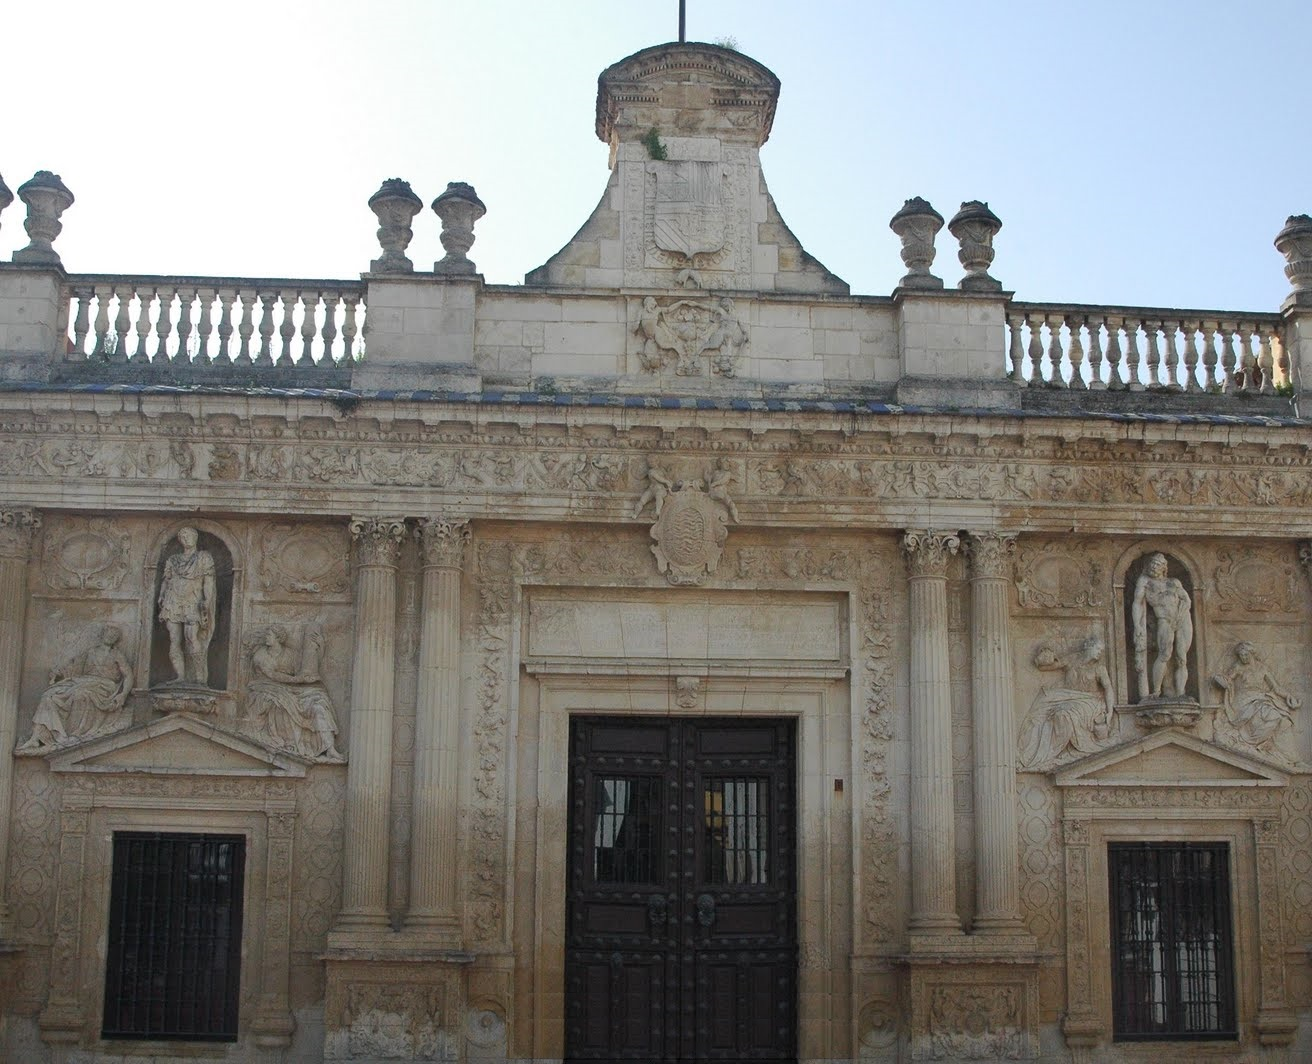fronton: (40, 710, 319, 786), (1047, 720, 1297, 793)
vano-adintelado: (519, 655, 856, 1064), (47, 785, 297, 1043), (1050, 798, 1294, 1047)
